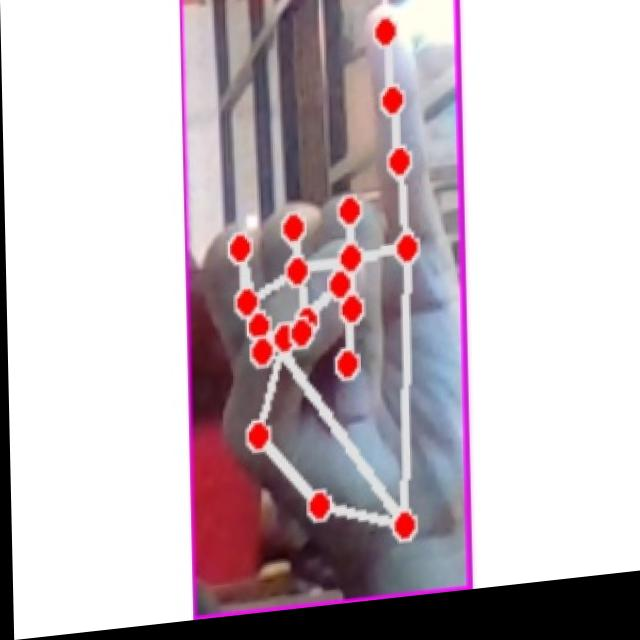I: (196, 0, 458, 582)
